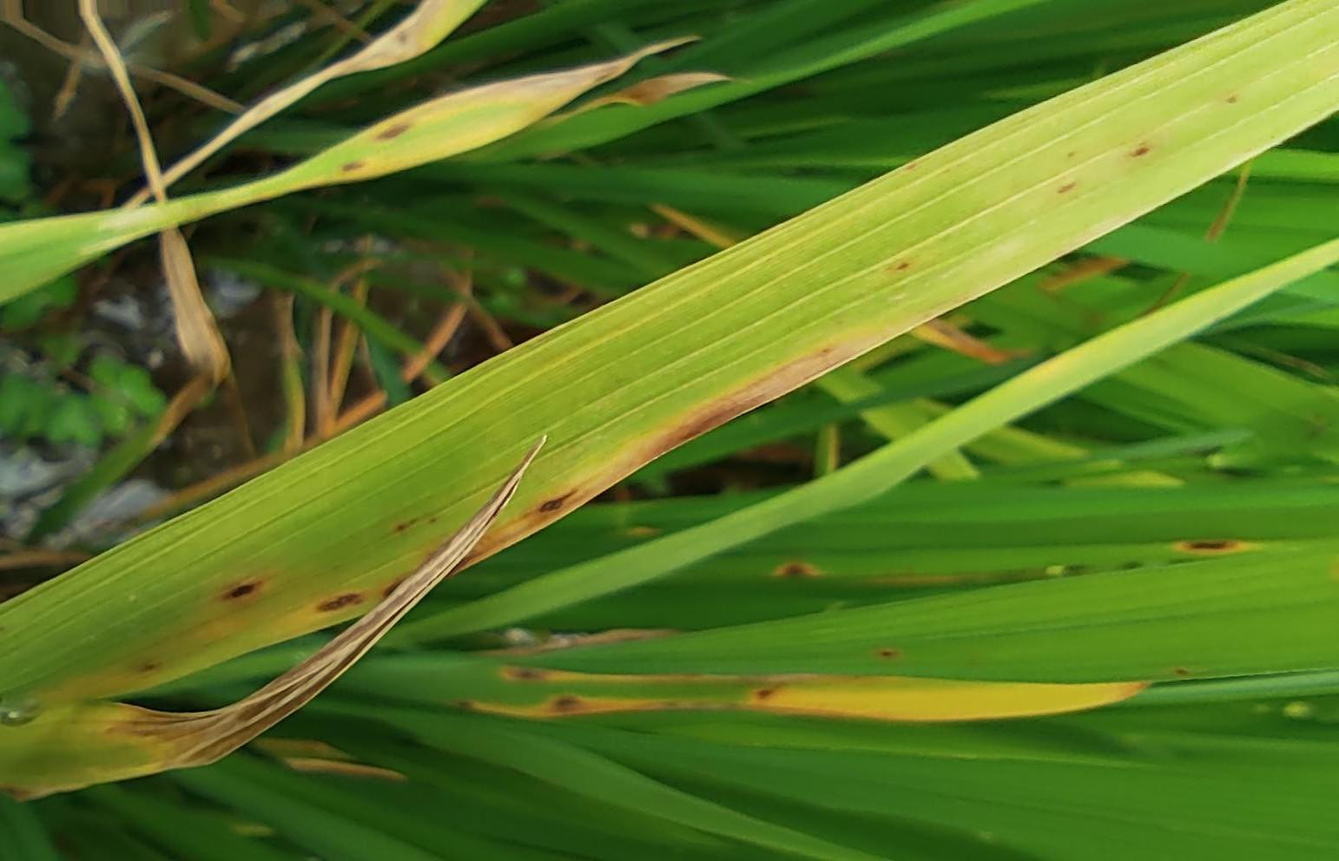LEAF: (0, 0, 1338, 706)
NBS: (390, 515, 440, 536), (316, 593, 365, 612), (540, 488, 577, 511), (876, 257, 922, 275), (220, 581, 261, 598), (1127, 137, 1156, 161), (1056, 175, 1080, 196), (902, 161, 921, 174), (1224, 94, 1240, 105), (1065, 148, 1079, 160)
